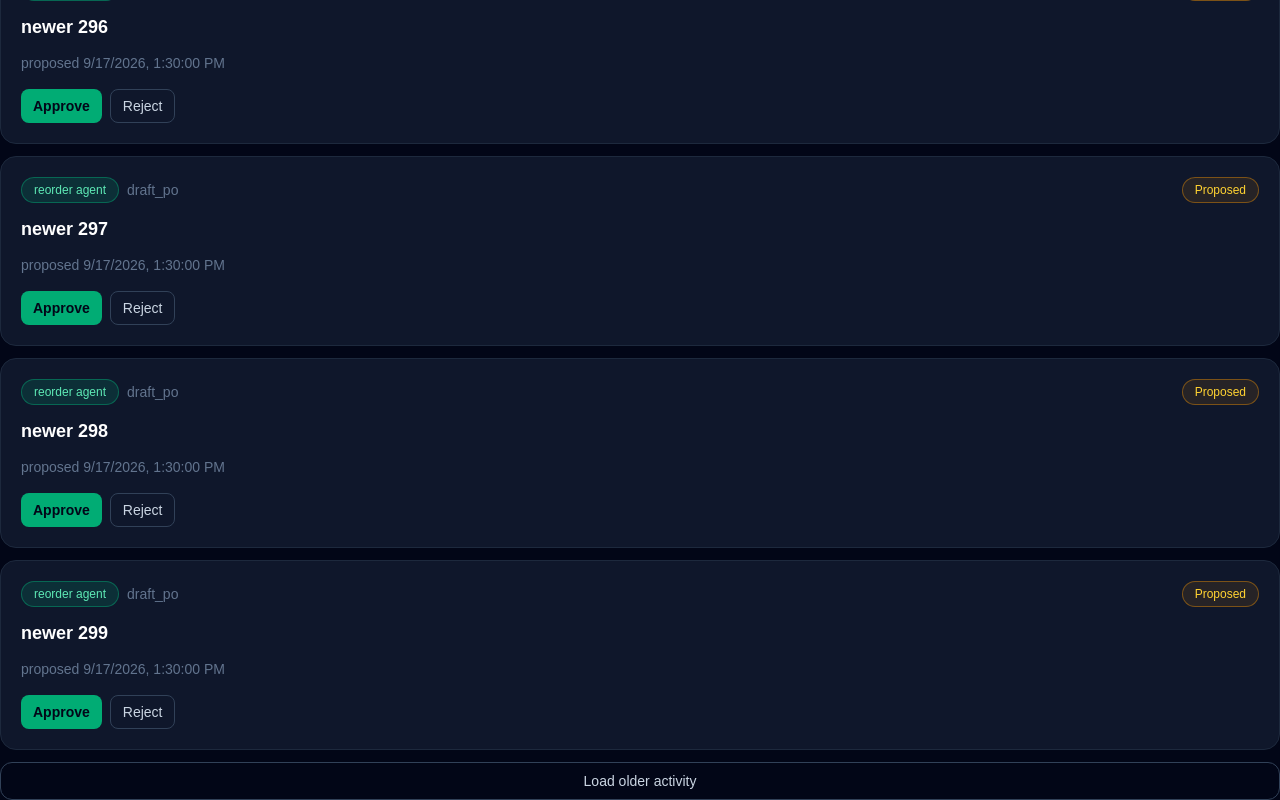
AgentActivitySection › loads older activity past the first page
(page scrolled)
Expected: the text "the oldest proposal" is not shown
Click the button "Load older activity".
click(640, 781)  # box [0, 762, 1279, 799]
(page scrolled)
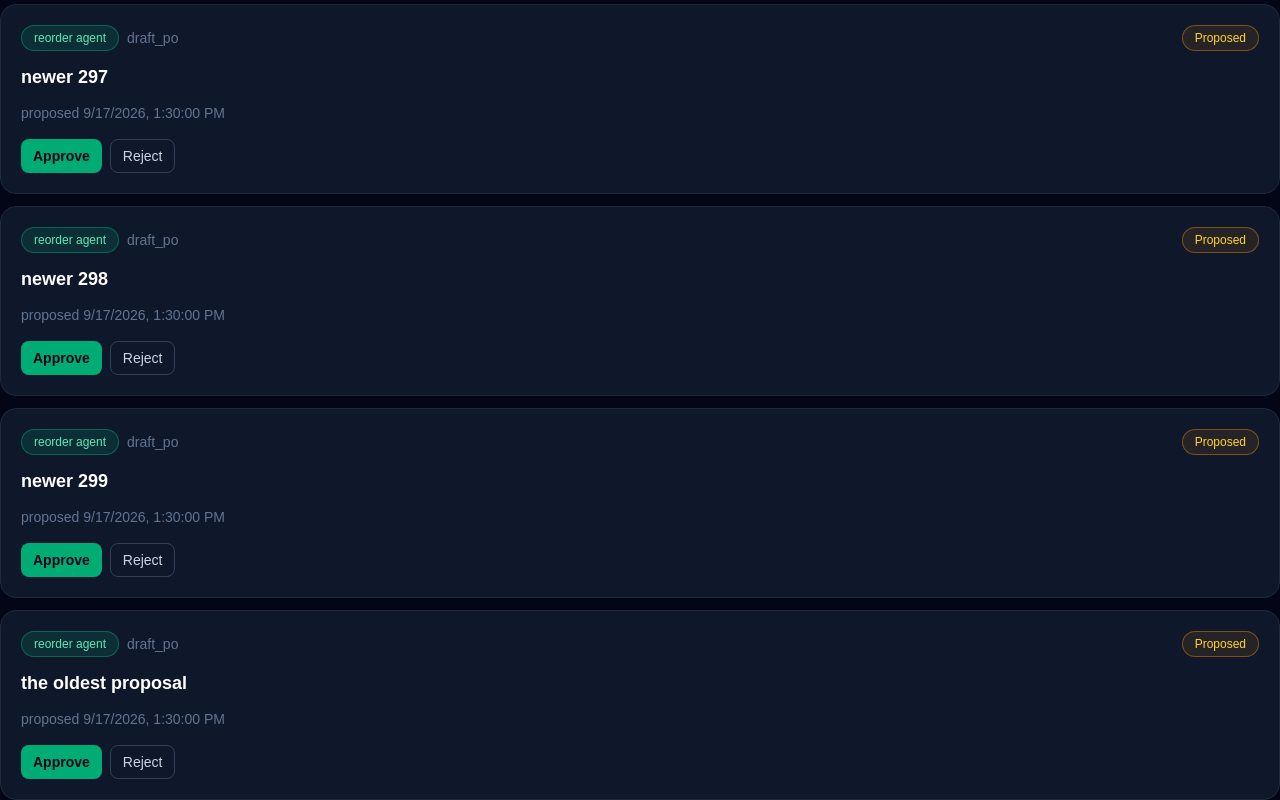
Result: the heading "the oldest proposal" is shown at [21, 673, 187, 693]
Result: the button "Load older activity" is gone
